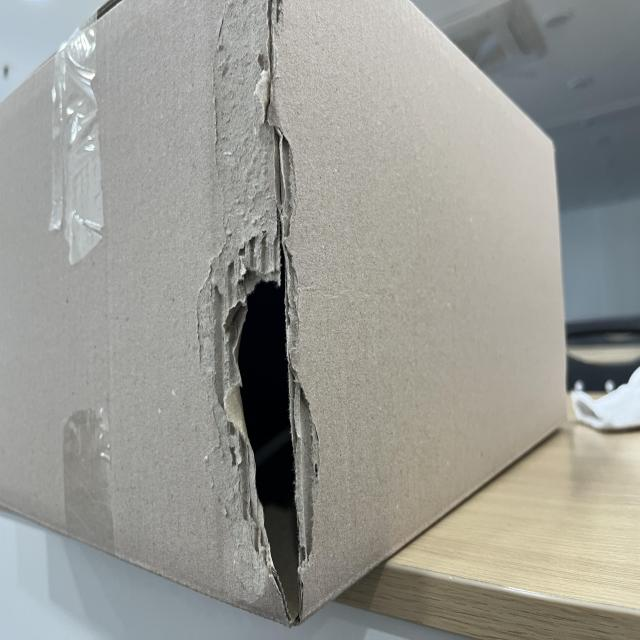damaged: (228, 279, 322, 624)
